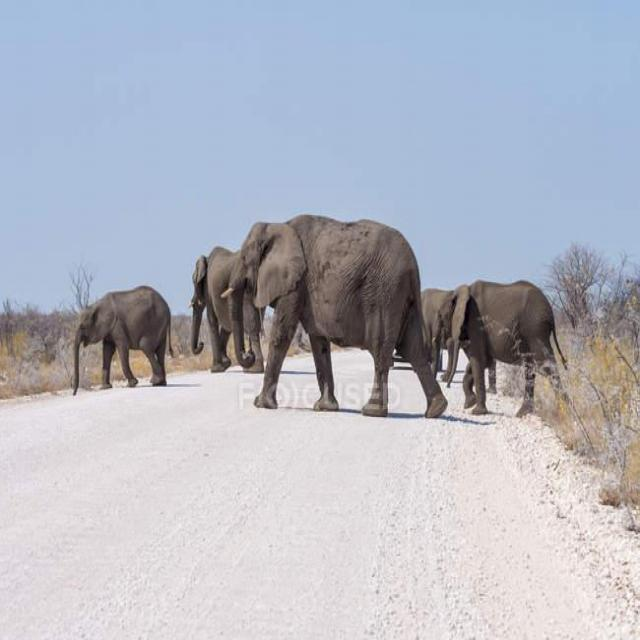Elephant: (229, 204, 450, 420), (424, 274, 581, 416), (57, 276, 179, 402), (185, 233, 272, 372)
